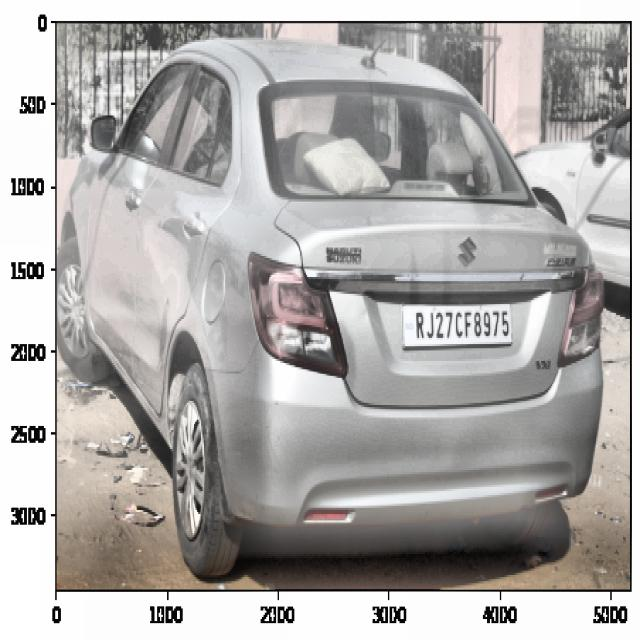license_plate: (407, 304, 512, 346)
